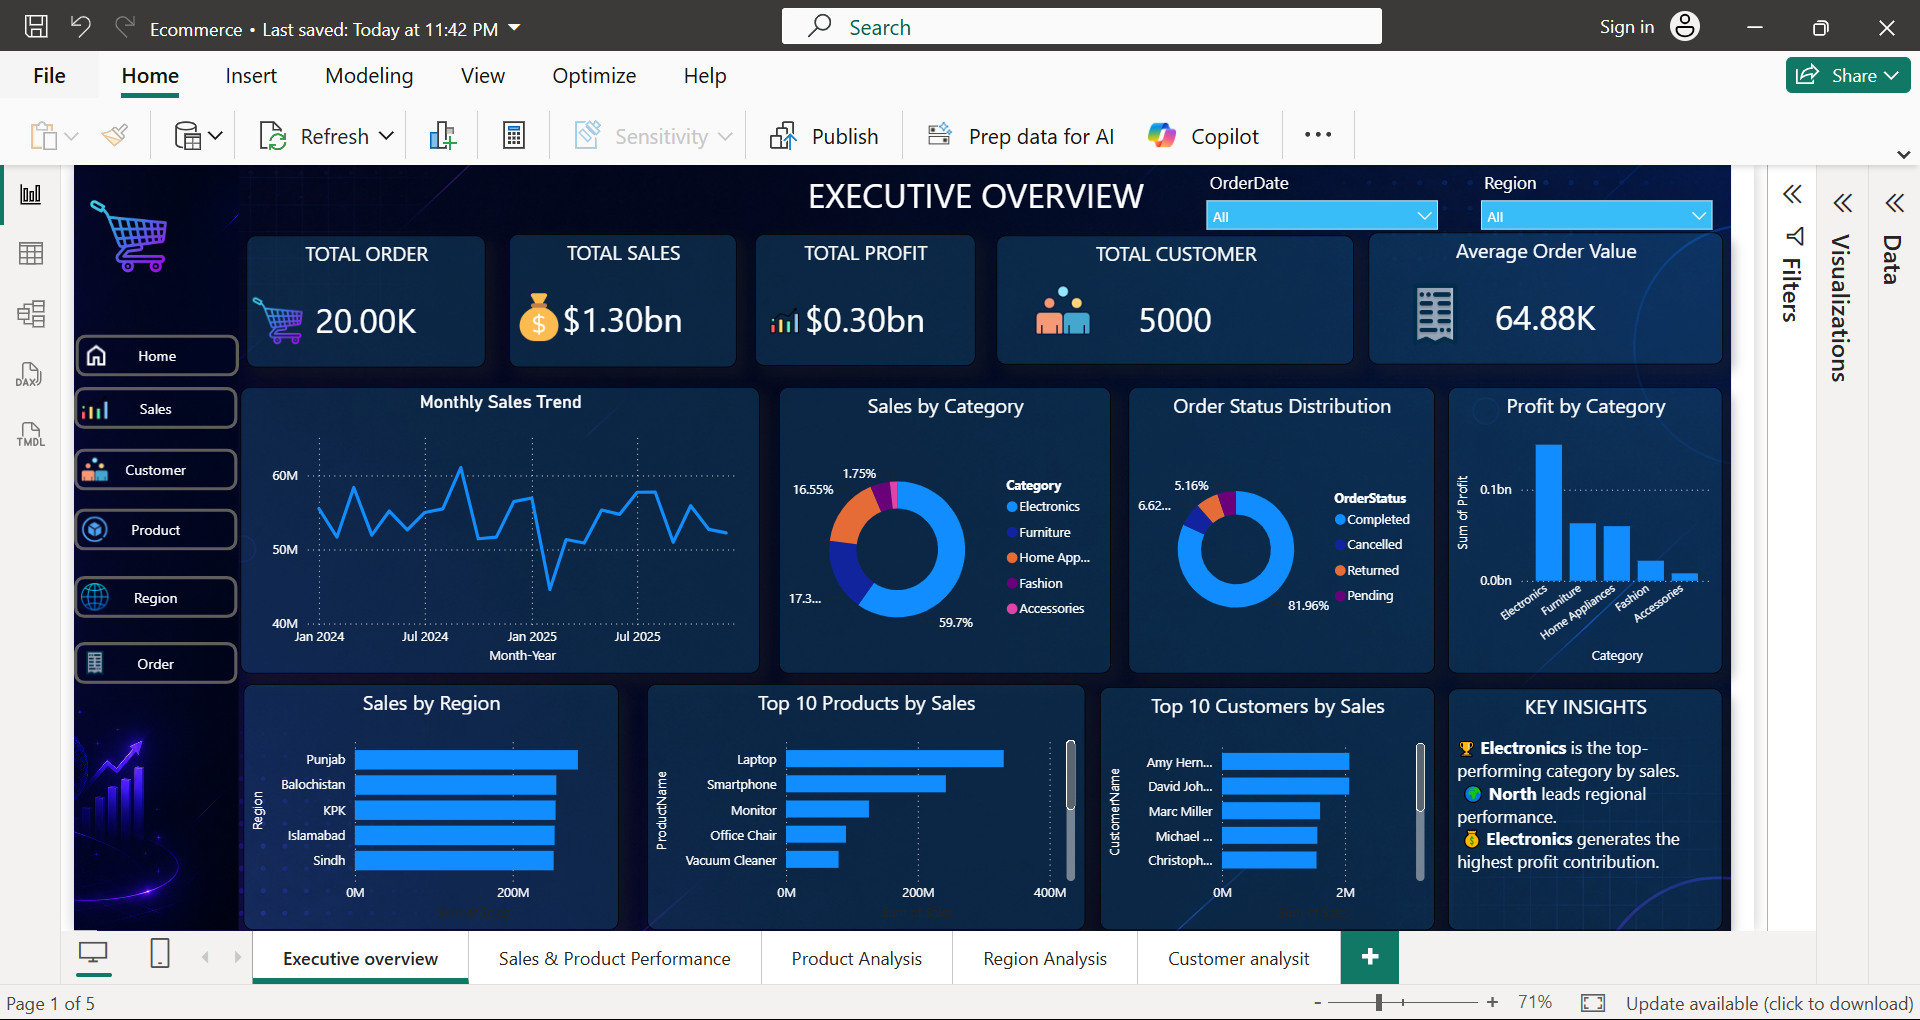

The dashboard page shown, as its layout file describes it:
{"tool":"powerbi","page":{"name":"Executive overview","canvas":[1580,720],"ordinal":0},"visuals":[{"type":"card","title":"TOTAL ORDER","fields":{"Values":["Count(ecommerce_orders.OrderID)"]},"box":[162.6,66.9,224.7,124.3],"z":0},{"type":"image","box":[162.6,117.9,59,55.8],"z":1000},{"type":"card","title":"TOTAL SALES","fields":{"Values":["Sum(ecommerce_orders.Sales)"]},"box":[409.3,65.1,214.3,125.5],"z":2000},{"type":"card","title":"TOTAL PROFIT","fields":{"Values":["Sum(ecommerce_orders.Profit)"]},"box":[640.5,65.1,207.4,124.2],"z":3000},{"type":"card","title":"Average Order Value","fields":{"Values":["customers.Average Order Value"]},"box":[1216.1,63.8,333.1,124.3],"z":4000},{"type":"card","title":"TOTAL CUSTOMER","fields":{"Values":["Count(ecommerce_orders.CustomerID)"]},"box":[867,66.9,336.3,121.1],"z":5000},{"type":"image","box":[0,0,154.4,719.2],"z":6000},{"type":"image","box":[5.6,24,91.6,86],"z":7000},{"type":"textbox","box":[135.5,0,1424.9,66.9],"z":8000},{"type":"image","box":[412.8,117.9,47.8,49.4],"z":9000},{"type":"image","box":[651.9,132.3,33.5,27.1],"z":10000},{"type":"image","box":[884.6,110,90.8,52.6],"z":11000},{"type":"image","box":[1236.8,106.8,86.1,66.9],"z":12000},{"type":"lineChart","title":"Monthly Sales Trend","fields":{"Y":["Sum(ecommerce_orders.Sales)"],"Category":["ecommerce_orders.OrderDate.Variation.Date Hierarchy.Year","ecommerce_orders.OrderDate.Variation.Date Hierarchy.Month"]},"box":[156.5,208.7,487.8,269.3],"z":13000},{"type":"donutChart","title":"Sales by Category","fields":{"Category":["products.Category"],"Y":["Sum(ecommerce_orders.Sales)"]},"box":[663.2,209,311.9,269.5],"z":14000},{"type":"donutChart","title":"Order Status Distribution","fields":{"Category":["ecommerce_orders.OrderStatus"],"Y":["Sum(ecommerce_orders.Sales)"]},"box":[991.8,209,287.7,269.5],"z":15000},{"type":"clusteredBarChart","title":"Sales by Region","fields":{"Category":["customers.Region"],"Y":["Sum(ecommerce_orders.Sales)"]},"box":[159.3,487.8,352.5,231.2],"z":16000},{"type":"clusteredBarChart","title":"Top 10 Products by Sales","fields":{"Y":["Sum(ecommerce_orders.Sales)"],"Category":["products.ProductName"]},"box":[538.6,487.8,411.7,231.2],"z":17000},{"type":"clusteredBarChart","title":"Top 10 Customers by Sales","fields":{"Y":["Sum(ecommerce_orders.Sales)"],"Category":["ecommerce_orders.CustomerName"]},"box":[964.4,490.7,314.4,228.4],"z":18000},{"type":"clusteredColumnChart","title":"Profit by Category","fields":{"Category":["products.Category"],"Y":["Sum(ecommerce_orders.Profit)"]},"box":[1291.5,209.3,257.9,269.1],"z":19000},{"type":"textbox","title":"KEY INSIGHTS","box":[1291.5,492.1,258,227],"z":20000},{"type":"slicer","fields":{"Values":["ecommerce_orders.OrderDate"]},"box":[1054.2,0,237.4,63.5],"z":21000},{"type":"slicer","fields":{"Values":["ecommerce_orders.Region"]},"box":[1312.1,0,237.4,63.5],"z":22000},{"type":"actionButton","box":[1.4,159.3,153.7,39.5],"z":24000},{"type":"actionButton","box":[0,208.8,153.7,39.5],"z":25000},{"type":"actionButton","box":[0,266.2,153.7,39.5],"z":26000},{"type":"actionButton","box":[0,323.5,153.7,39.5],"z":27000},{"type":"actionButton","box":[0,385.7,153.7,39.5],"z":28000},{"type":"actionButton","box":[0,447.9,153.7,39.5],"z":29000}]}

Visuals, with their boxes on the page's 1580x720 design canvas (x1, y1, x2, y2). These are canvas units, not pixel positions in the 1920x1020 screenshot, which may show the page scaled, cropped or inside an application window:
"TOTAL ORDER" card: {"left": 163, "top": 67, "right": 387, "bottom": 191}
image: {"left": 163, "top": 118, "right": 222, "bottom": 174}
"TOTAL SALES" card: {"left": 409, "top": 65, "right": 624, "bottom": 191}
"TOTAL PROFIT" card: {"left": 640, "top": 65, "right": 848, "bottom": 189}
"Average Order Value" card: {"left": 1216, "top": 64, "right": 1549, "bottom": 188}
"TOTAL CUSTOMER" card: {"left": 867, "top": 67, "right": 1203, "bottom": 188}
image: {"left": 0, "top": 0, "right": 154, "bottom": 719}
image: {"left": 6, "top": 24, "right": 97, "bottom": 110}
textbox: {"left": 136, "top": 0, "right": 1560, "bottom": 67}
image: {"left": 413, "top": 118, "right": 461, "bottom": 167}
image: {"left": 652, "top": 132, "right": 685, "bottom": 159}
image: {"left": 885, "top": 110, "right": 975, "bottom": 163}
image: {"left": 1237, "top": 107, "right": 1323, "bottom": 174}
"Monthly Sales Trend" lineChart: {"left": 156, "top": 209, "right": 644, "bottom": 478}
"Sales by Category" donutChart: {"left": 663, "top": 209, "right": 975, "bottom": 478}
"Order Status Distribution" donutChart: {"left": 992, "top": 209, "right": 1280, "bottom": 478}
"Sales by Region" clusteredBarChart: {"left": 159, "top": 488, "right": 512, "bottom": 719}
"Top 10 Products by Sales" clusteredBarChart: {"left": 539, "top": 488, "right": 950, "bottom": 719}
"Top 10 Customers by Sales" clusteredBarChart: {"left": 964, "top": 491, "right": 1279, "bottom": 719}
"Profit by Category" clusteredColumnChart: {"left": 1292, "top": 209, "right": 1549, "bottom": 478}
"KEY INSIGHTS" textbox: {"left": 1292, "top": 492, "right": 1550, "bottom": 719}
slicer - ecommerce_orders.OrderDate: {"left": 1054, "top": 0, "right": 1292, "bottom": 64}
slicer - ecommerce_orders.Region: {"left": 1312, "top": 0, "right": 1550, "bottom": 64}
actionButton: {"left": 1, "top": 159, "right": 155, "bottom": 199}
actionButton: {"left": 0, "top": 209, "right": 154, "bottom": 248}
actionButton: {"left": 0, "top": 266, "right": 154, "bottom": 306}
actionButton: {"left": 0, "top": 324, "right": 154, "bottom": 363}
actionButton: {"left": 0, "top": 386, "right": 154, "bottom": 425}
actionButton: {"left": 0, "top": 448, "right": 154, "bottom": 487}
